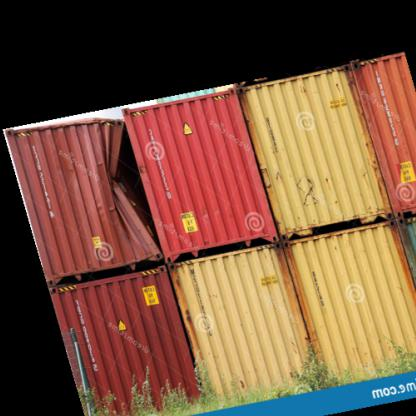Damage: (96, 116, 177, 252)
